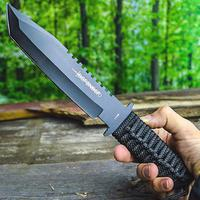knife: (4, 1, 173, 193)
